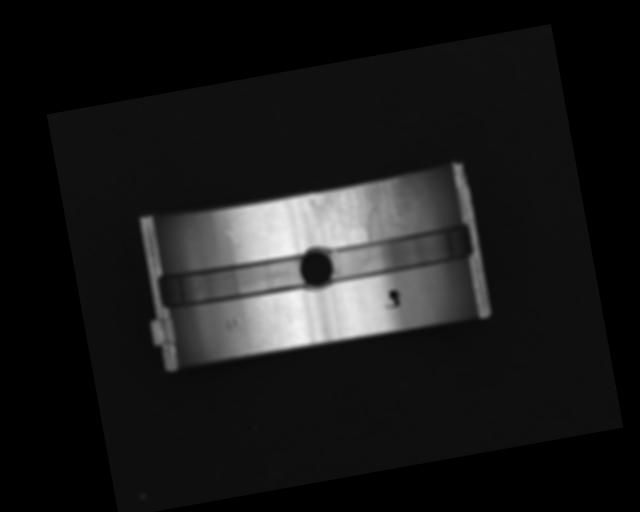blot: (382, 288, 403, 309)
bruise: (224, 317, 240, 332)
gap: (322, 223, 472, 283), (156, 252, 307, 311)
hole: (297, 243, 338, 292)
nick: (226, 226, 249, 264)
scratch: (309, 177, 413, 250)
